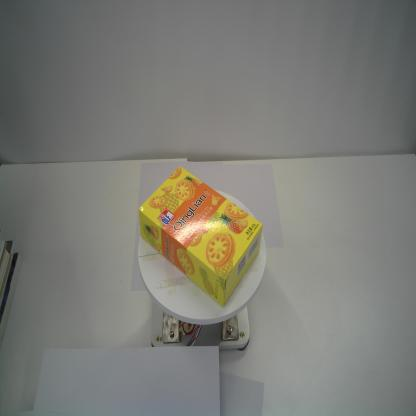Dessert: (138, 164, 264, 306)
